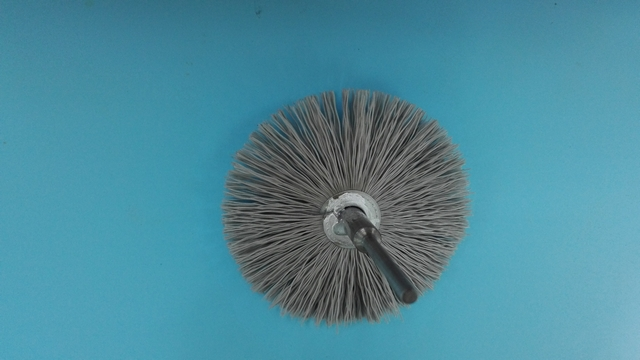TOOL: (165, 58, 524, 347), (202, 75, 484, 327), (228, 87, 475, 331)
